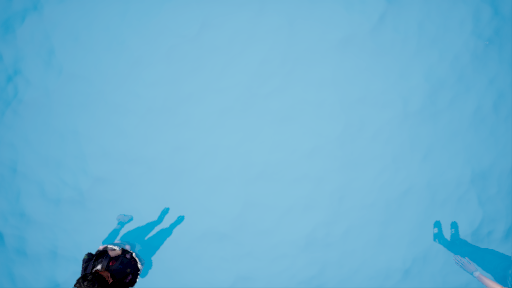person: (67, 203, 191, 288)
